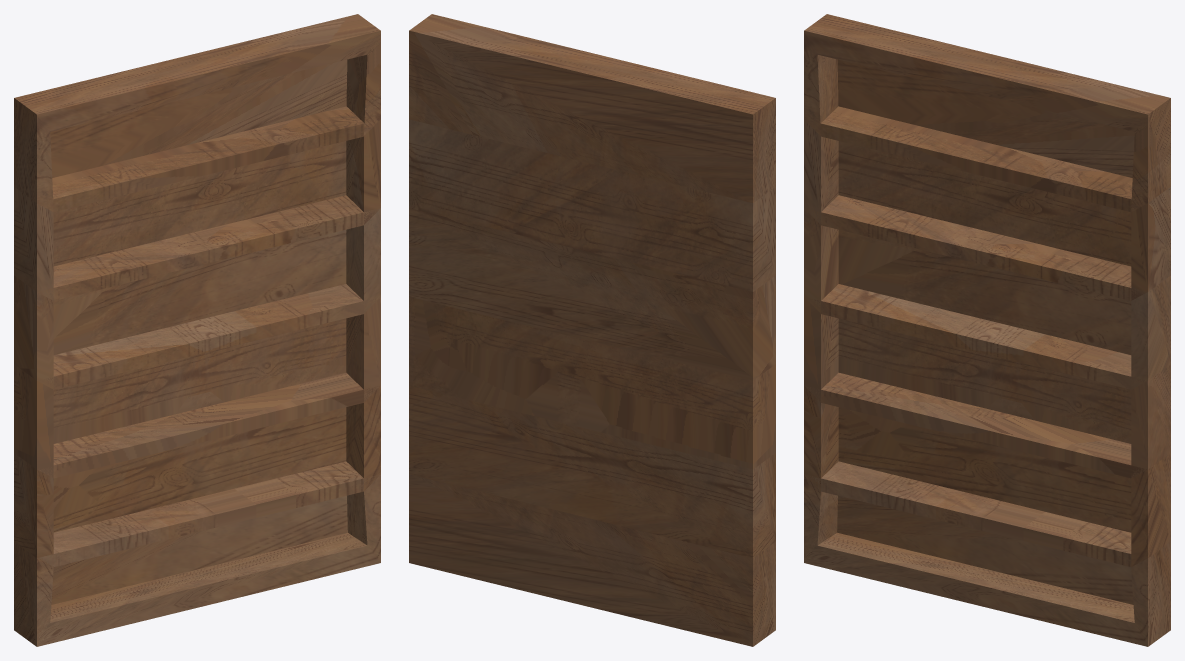
Rendered from scaffale.fbx.
3 renders of one model, left to right at view 1: azimuth 30°, elevation 25°; view 2: azimuth 150°, elevation 25°; view 3: azimuth 330°, elevation 25°, orthographic.
Parts seen in each view (by area): view 1: Cube; view 2: Cube; view 3: Cube.
Part boxes in pixels (box(x1,y1,x2,y2)): Cube: box(14, 14, 380, 646); Cube: box(409, 14, 775, 646); Cube: box(804, 14, 1170, 646).
Bounding box in the file's own units: 480 × 710 × 55.
